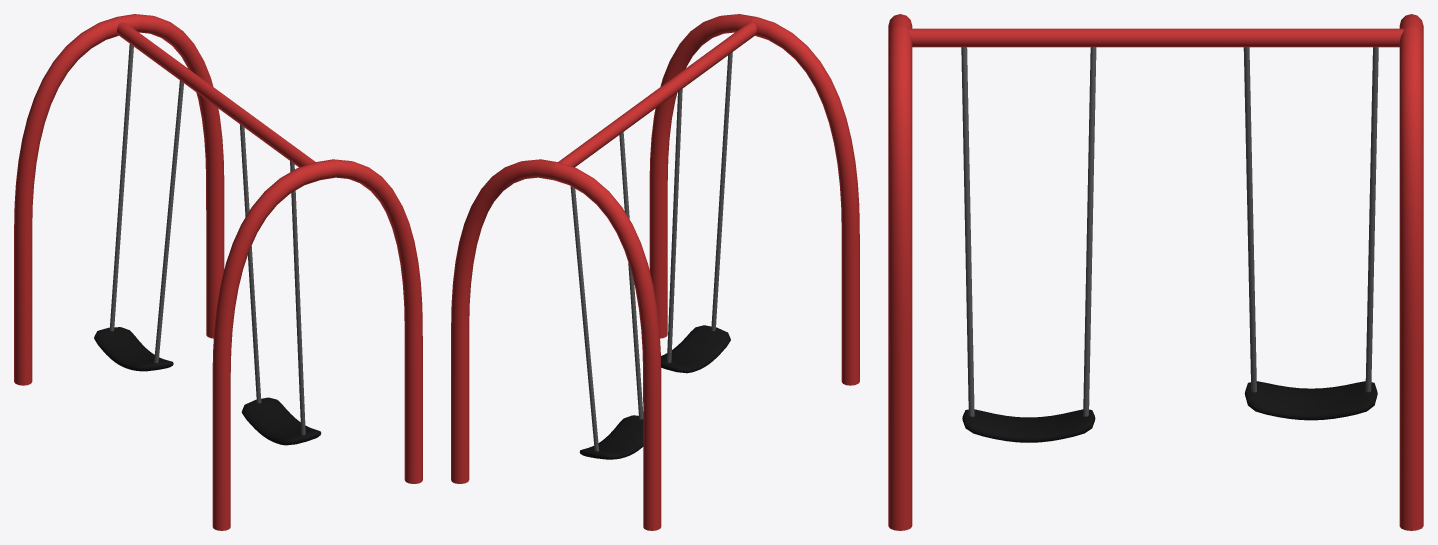
File: swings.glb
3 views of the same model, side by side, from view 1: azimuth 30°, elevation 25°; view 2: azimuth 150°, elevation 25°; view 3: azimuth 270°, elevation 25° (orthographic). The views are drawn at different scales.
Visible parts, largest first — view 1: Cylinder.012, Plane.005, Plane.002; view 2: Cylinder.012, Plane.002, Plane.005; view 3: Cylinder.012, Plane.005, Plane.002.
Boxes of the visible parts, left/top/right/bottom form: Cylinder.012: left=14, top=14, right=422, bottom=530; Plane.005: left=94, top=44, right=183, bottom=371; Plane.002: left=239, top=124, right=321, bottom=445; Cylinder.012: left=451, top=14, right=859, bottom=530; Plane.002: left=661, top=52, right=732, bottom=373; Plane.005: left=570, top=132, right=643, bottom=459; Cylinder.012: left=888, top=14, right=1423, bottom=530; Plane.005: left=1243, top=47, right=1378, bottom=420; Plane.002: left=961, top=47, right=1096, bottom=442.
Size of the model in its own units: 1.39 by 2.19 by 2.42.
Materials: 1 (1 with a texture image).
